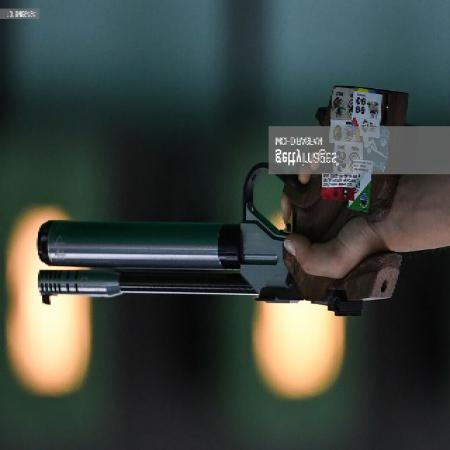Pistol: (31, 89, 411, 317)
